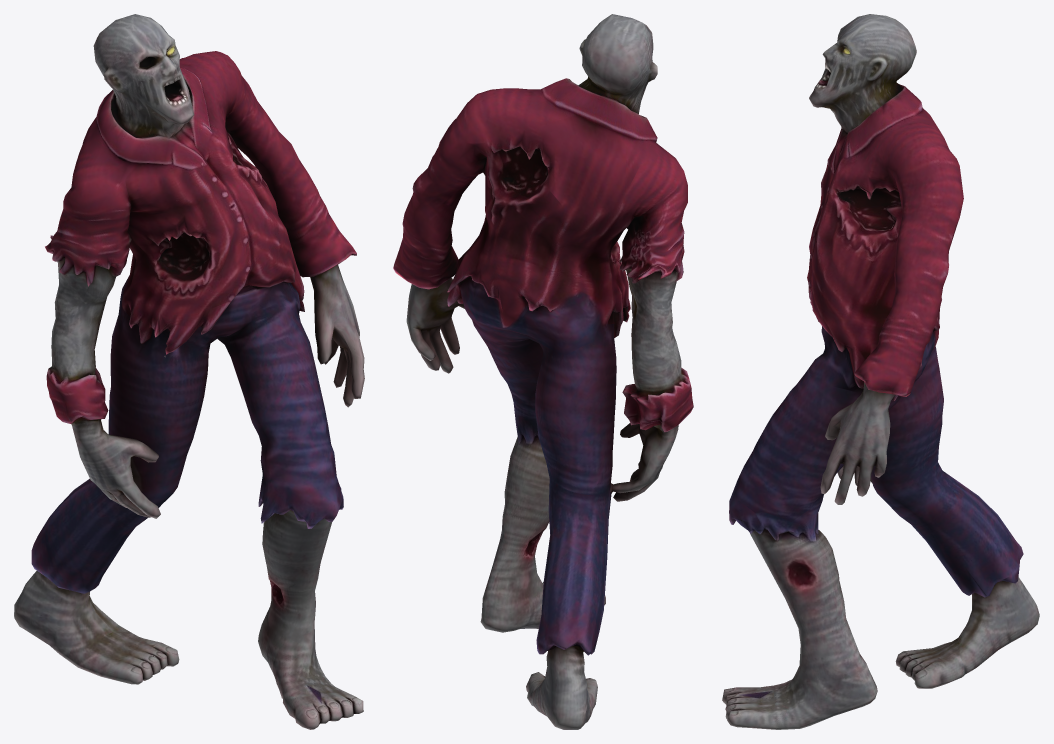
Rendered from Zombie Walker Male 03.glb.
The picture shows the model from 3 angles, left to right: view 1: azimuth 30°, elevation 25°; view 2: azimuth 150°, elevation 25°; view 3: azimuth 270°, elevation 25°; orthographic projection. The views are drawn at different scales.
Visible parts, largest first — view 1: body_low.001; view 2: body_low.001; view 3: body_low.001.
Part boxes in pixels (bbox=[...]): body_low.001: bbox=[14, 14, 364, 729]; body_low.001: bbox=[393, 14, 693, 729]; body_low.001: bbox=[722, 14, 1039, 729].
Size of the model in its own units: 2.89 by 6.38 by 2.85.
1 material, 1 textured.
